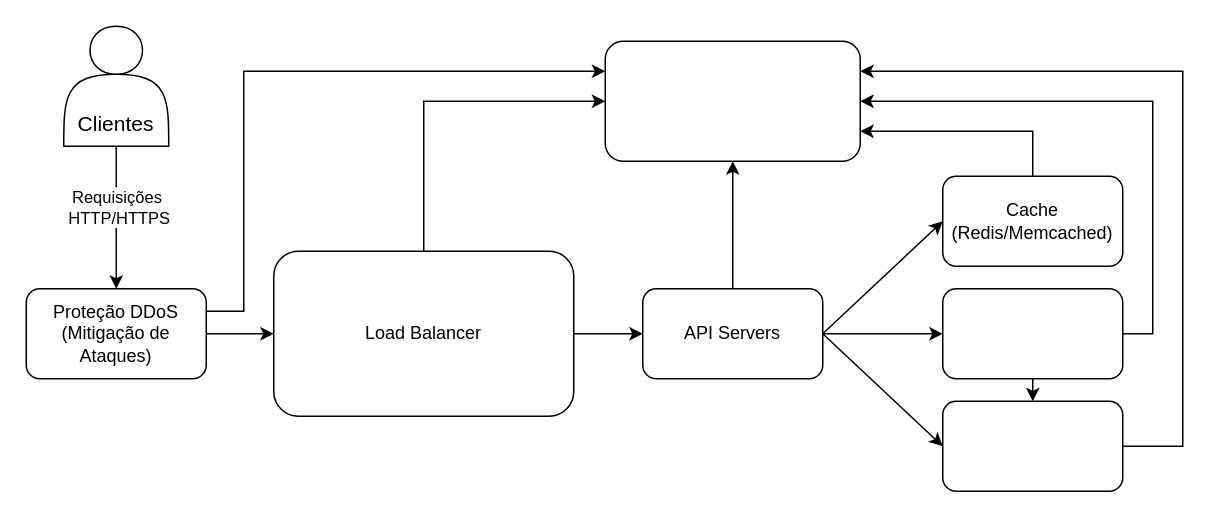
Image size: 1221x518. Some labels were removed from this diagram. Here are the shapes that lost their labels. From the top down, the centre of each, then its label:
At point (732, 100): "Monitoramento (Prometheus/Grafana) Logs Centralizados (ELK Stack)".
At point (1032, 333): "Banco de Dados".
At point (1032, 445): "Banco de Dados Réplica (HA/Failover)".
